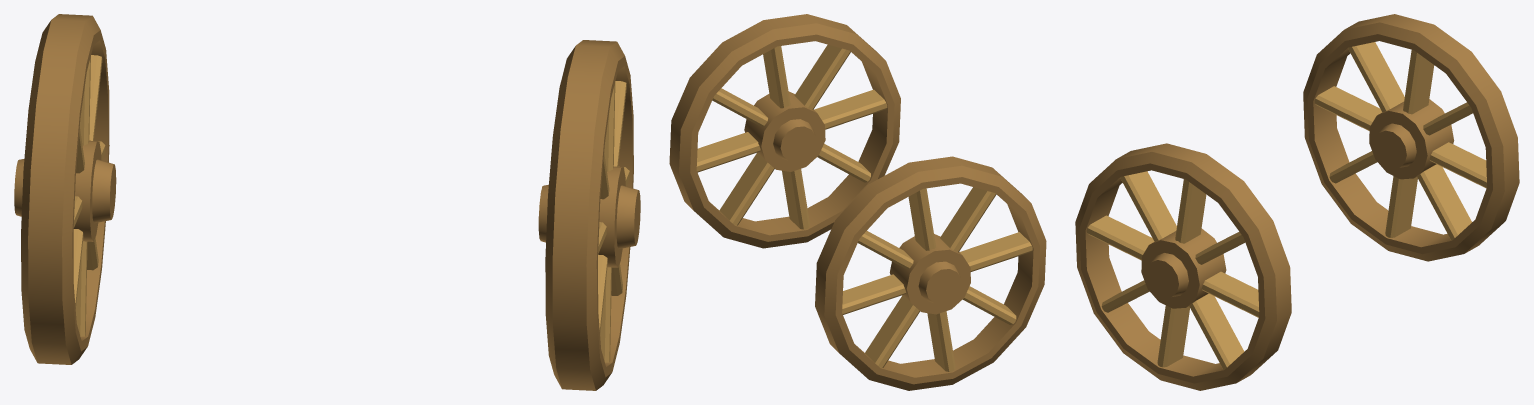
Rendered from Cannon_Wheels.fbx.
3 views of the same model, side by side, from view 1: azimuth 30°, elevation 25°; view 2: azimuth 150°, elevation 25°; view 3: azimuth 270°, elevation 25° (orthographic). The views are drawn at different scales.
Parts seen in each view (by area): view 1: Cannon_Wheels; view 2: Cannon_Wheels; view 3: Cannon_Wheels.
Boxes of the visible parts, box(x1,y1,x2,y2) form: Cannon_Wheels: box(14, 14, 640, 390); Cannon_Wheels: box(669, 14, 1046, 390); Cannon_Wheels: box(1075, 14, 1519, 390).
Size of the model in its own units: 288 by 152 by 268.
